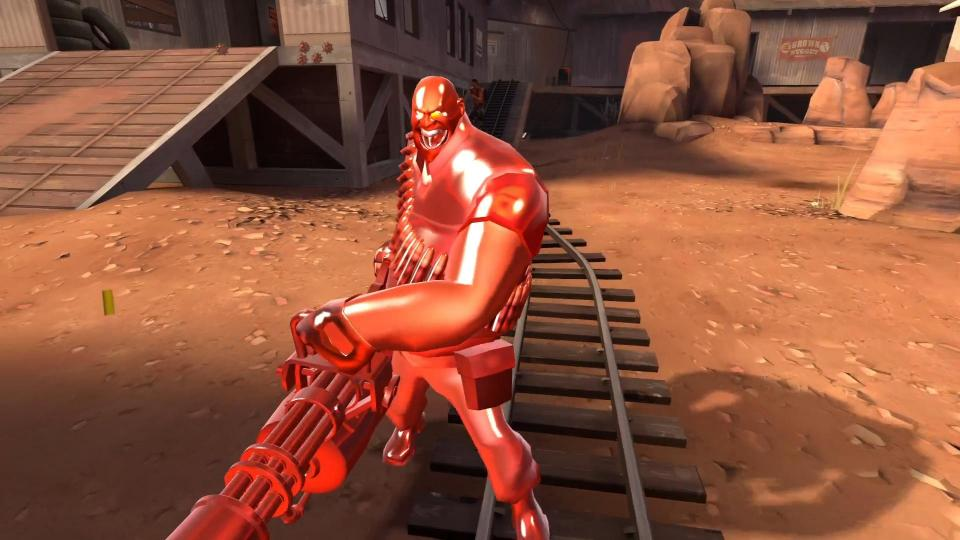Enemy: (163, 73, 550, 540), (469, 79, 486, 123)
